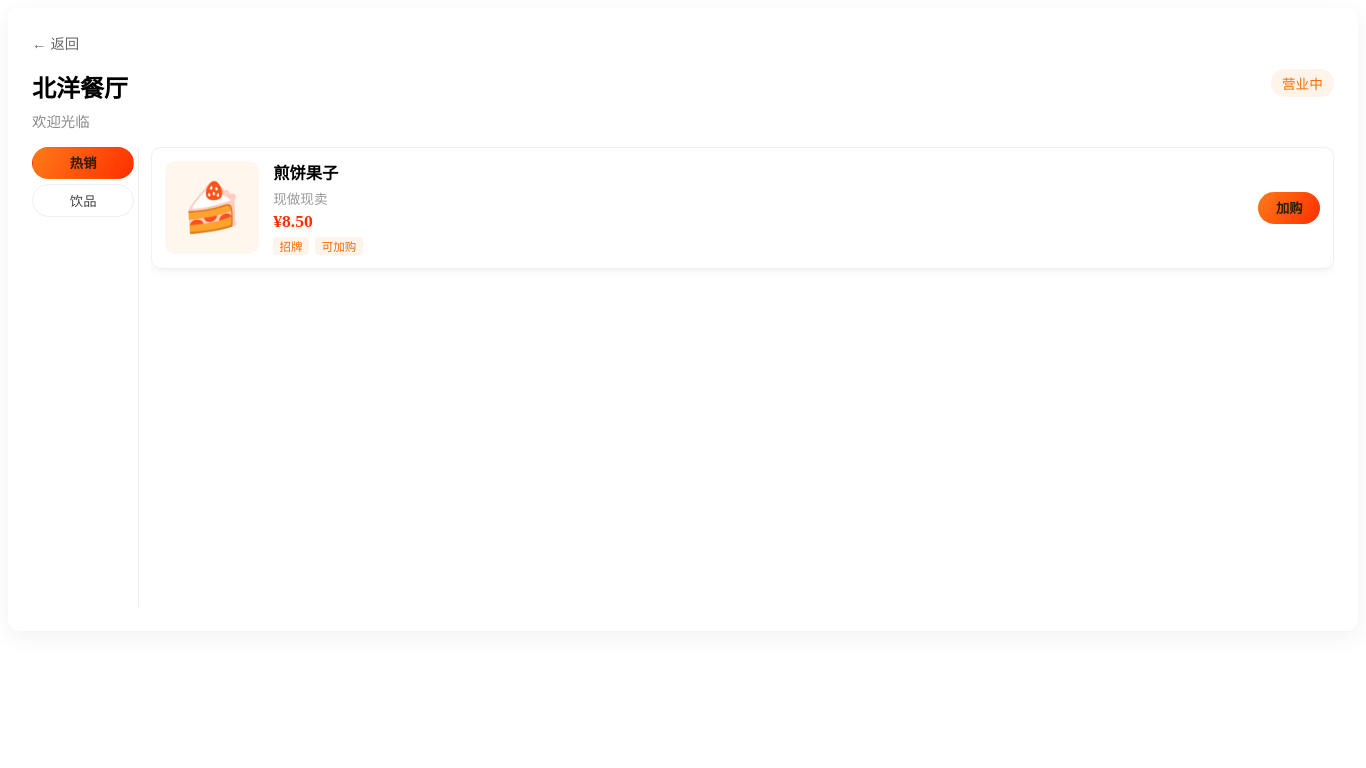
Test: 店铺页（顾客点单） › 加购失败（库存不足/下架）展示后端提示
Click the button with test id "add-40" at x=1289, y=208, box [1258,192,1320,224]
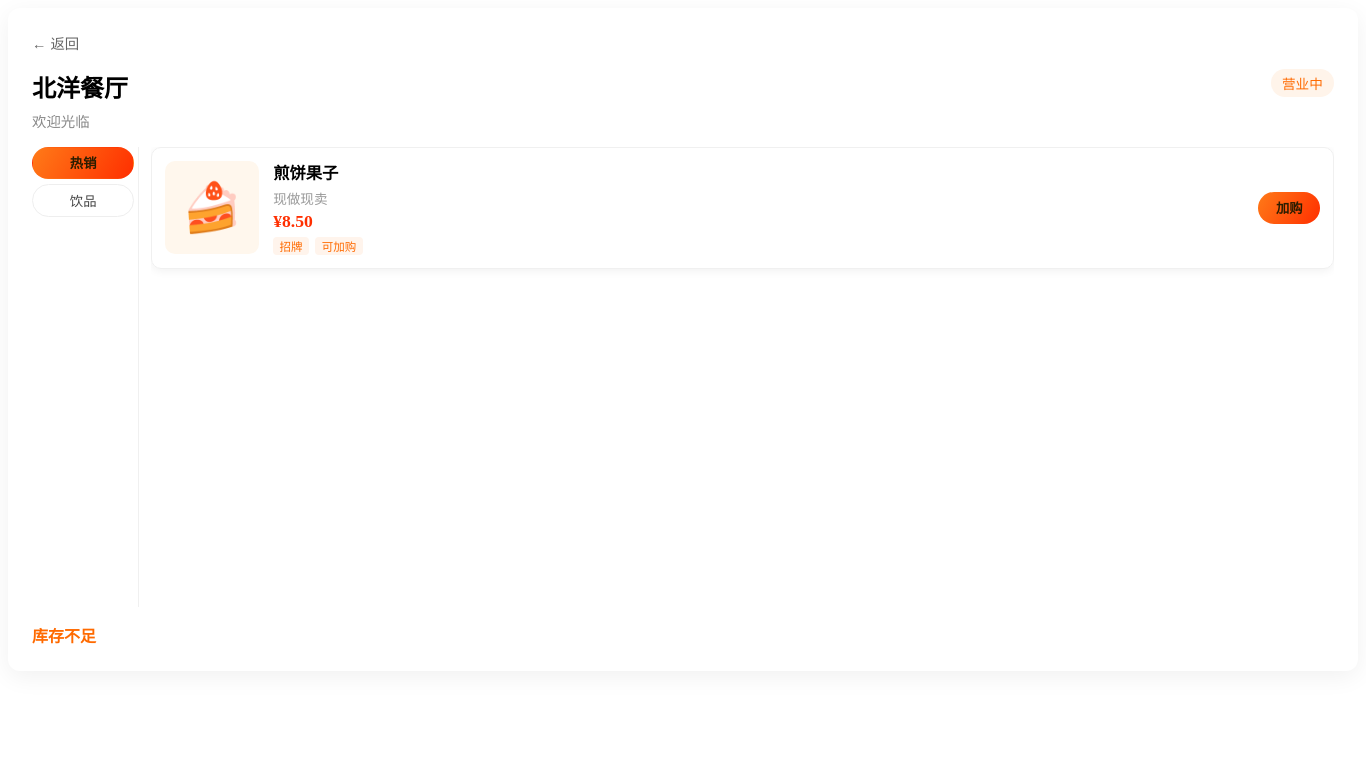
Expected: the message with test id "shop-message" reads "库存不足", [32,628,96,645]
